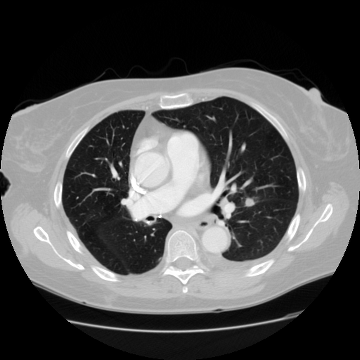nodule: (244, 198, 254, 208)
